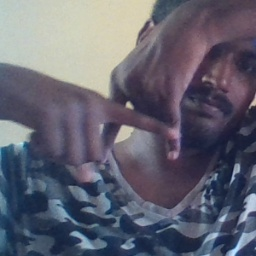H: (67, 61, 201, 172)
